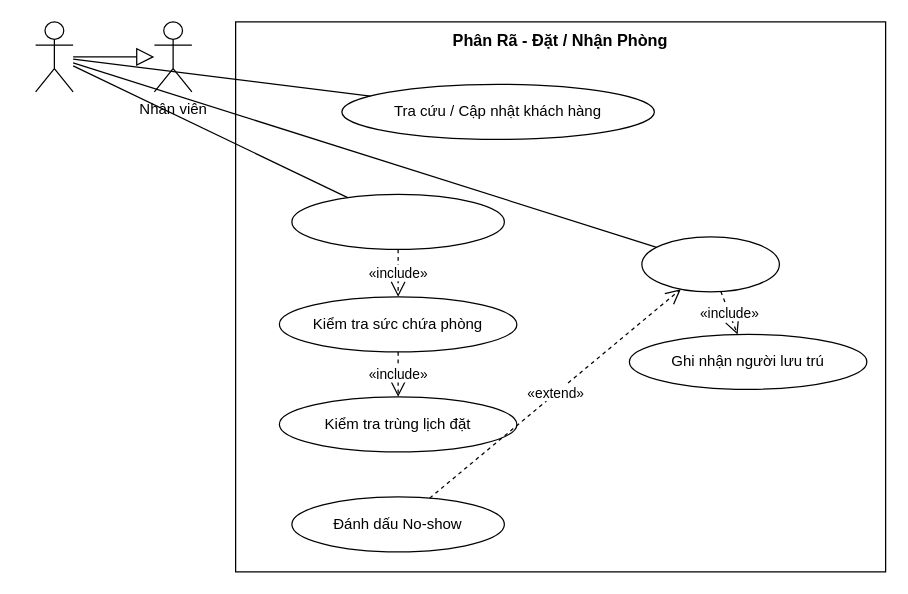
The diagram is 908 pixels wide and 594 high, and some of its shapes have lost their labels. The centre of each missing label's shape, as x and y in pixels:
Lập phiếu đặt phòng: the point at 397,221
Nhận phòng: the point at 710,264
NV Lễ tân: the point at 53,56
